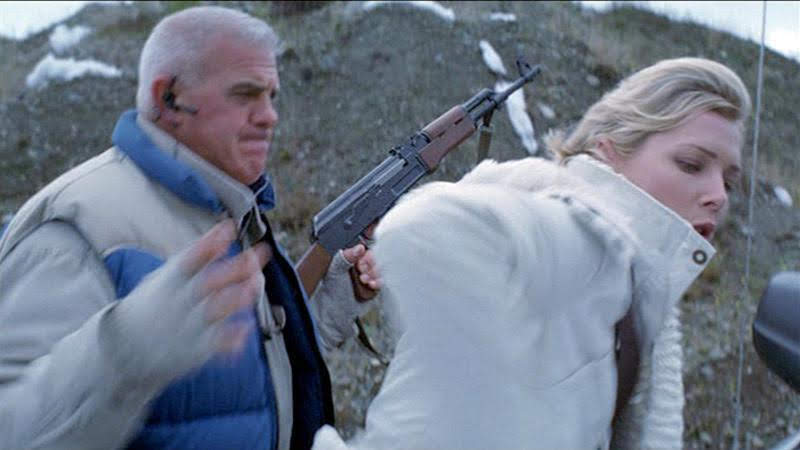gun: (291, 34, 551, 272)
